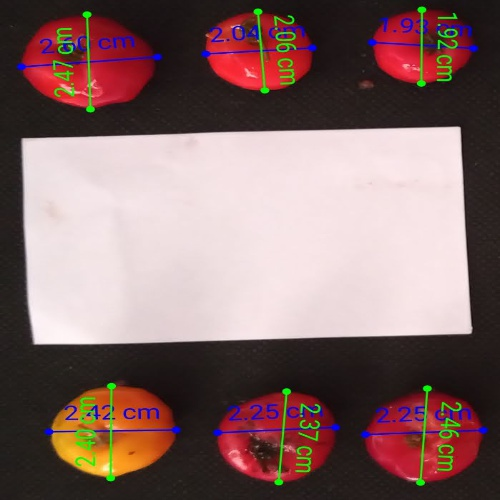acerola: (23, 16, 155, 108), (50, 387, 177, 478), (367, 392, 483, 482), (220, 394, 335, 481), (207, 12, 312, 91), (373, 10, 474, 82)
cartao: (21, 138, 461, 345)
